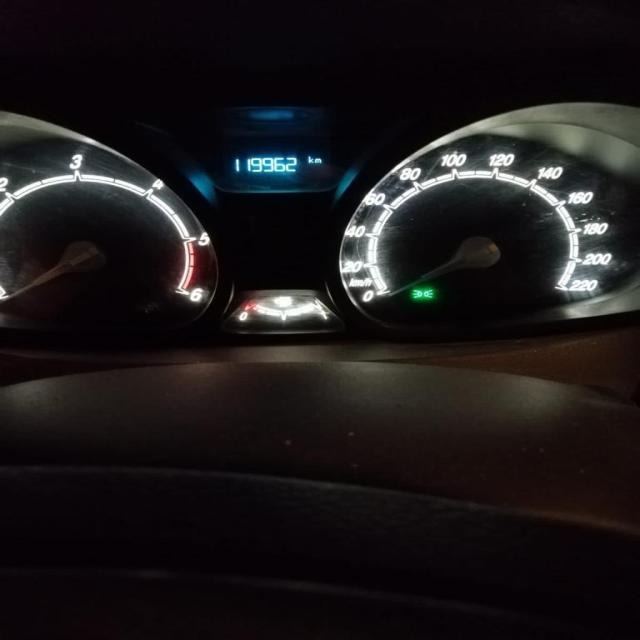odometer: (224, 149, 328, 180)
